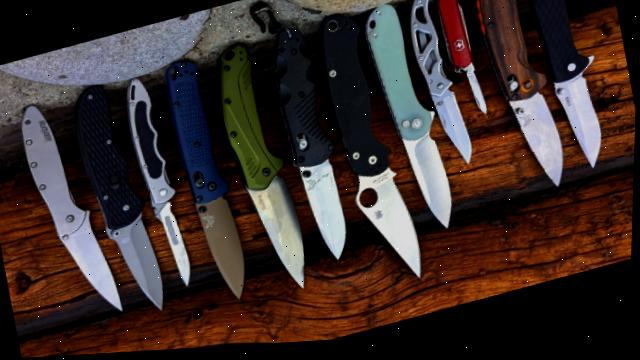pocket-knife: (300, 0, 438, 307), (199, 33, 323, 311), (5, 86, 140, 341), (58, 70, 181, 331), (150, 45, 266, 321), (252, 14, 369, 284), (353, 0, 469, 252), (457, 0, 577, 209), (113, 69, 209, 303), (513, 0, 621, 190), (394, 0, 483, 186), (427, 0, 496, 129)
